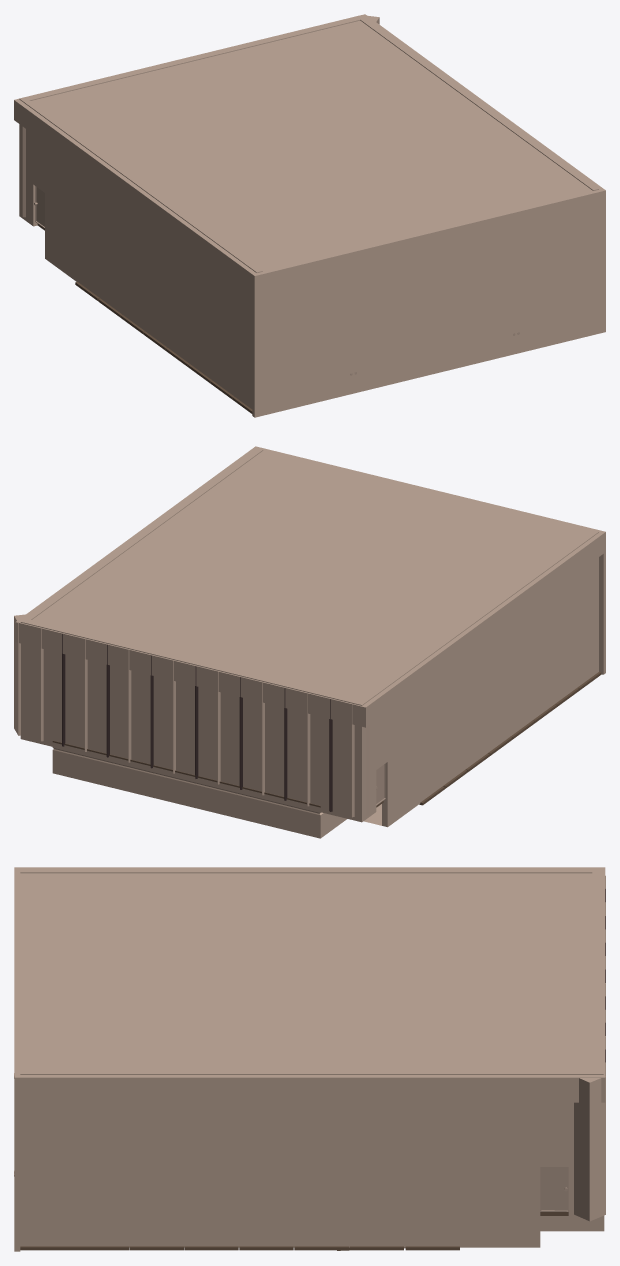
Rendered from audit.fbx.
3 views of the same model, one above another, from view 1: azimuth 30°, elevation 25°; view 2: azimuth 150°, elevation 25°; view 3: azimuth 270°, elevation 25° (orthographic). The views are drawn at different scales.
Parts seen in each view (by area): view 1: Cube.001, Cube.026; view 2: Cube.001, Cube.012, Cube.028, Cube.022, Cube.026; view 3: Cube.001, Cube.028, Cube.026, Cube.009, Cube.012.
Part boxes in pixels (x1,y1,x2,y2): Cube.001: [14, 14, 605, 417]; Cube.026: [75, 282, 252, 413]; Cube.001: [15, 446, 605, 827]; Cube.012: [52, 740, 383, 838]; Cube.028: [14, 614, 369, 817]; Cube.022: [62, 634, 332, 811]; Cube.026: [419, 671, 601, 805]; Cube.001: [14, 867, 605, 1251]; Cube.028: [574, 875, 605, 1221]; Cube.026: [20, 1246, 459, 1250]; Cube.009: [540, 1167, 568, 1211]; Cube.012: [337, 1212, 604, 1250].
Size of the model in its own units: 32316 by 12558 by 37575.
